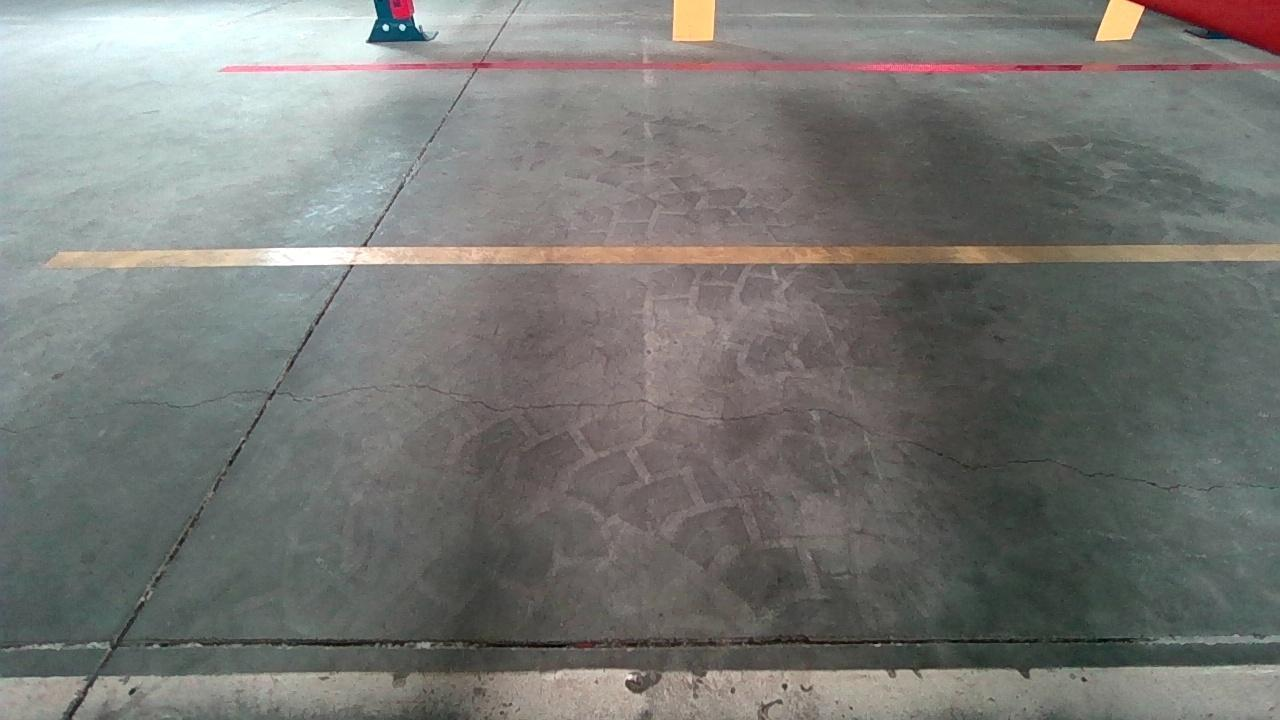h_rack: (1085, 0, 1269, 34)
orange_strip: (1096, 0, 1146, 41), (673, 0, 716, 42)
red_line: (221, 64, 1280, 72)
yellow_line: (38, 245, 1280, 268)
